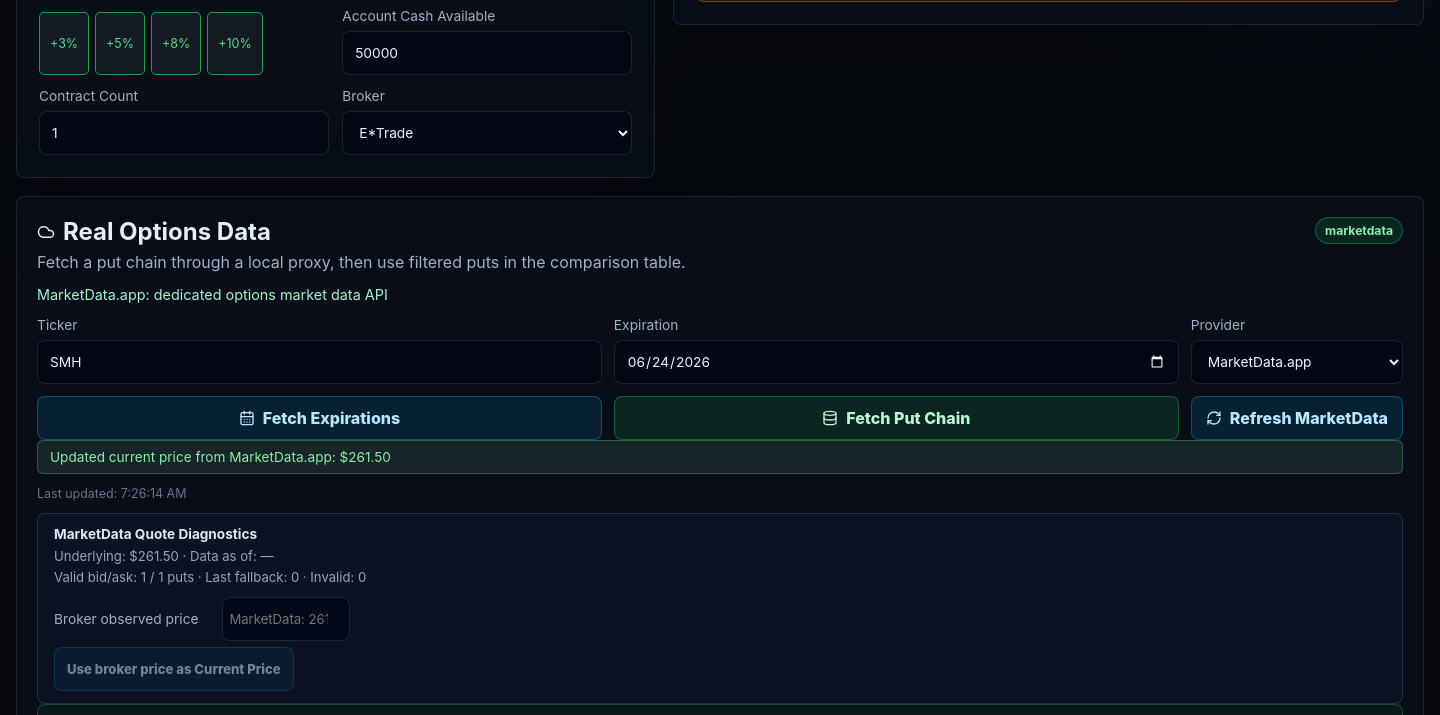
Scenario: App › hides apply prompt after Use in Comparison Table is clicked
(page scrolled)
Select "MarketData.app" in the dropdown named "options provider": coordinates (1297, 362) [1191,340,1403,384]
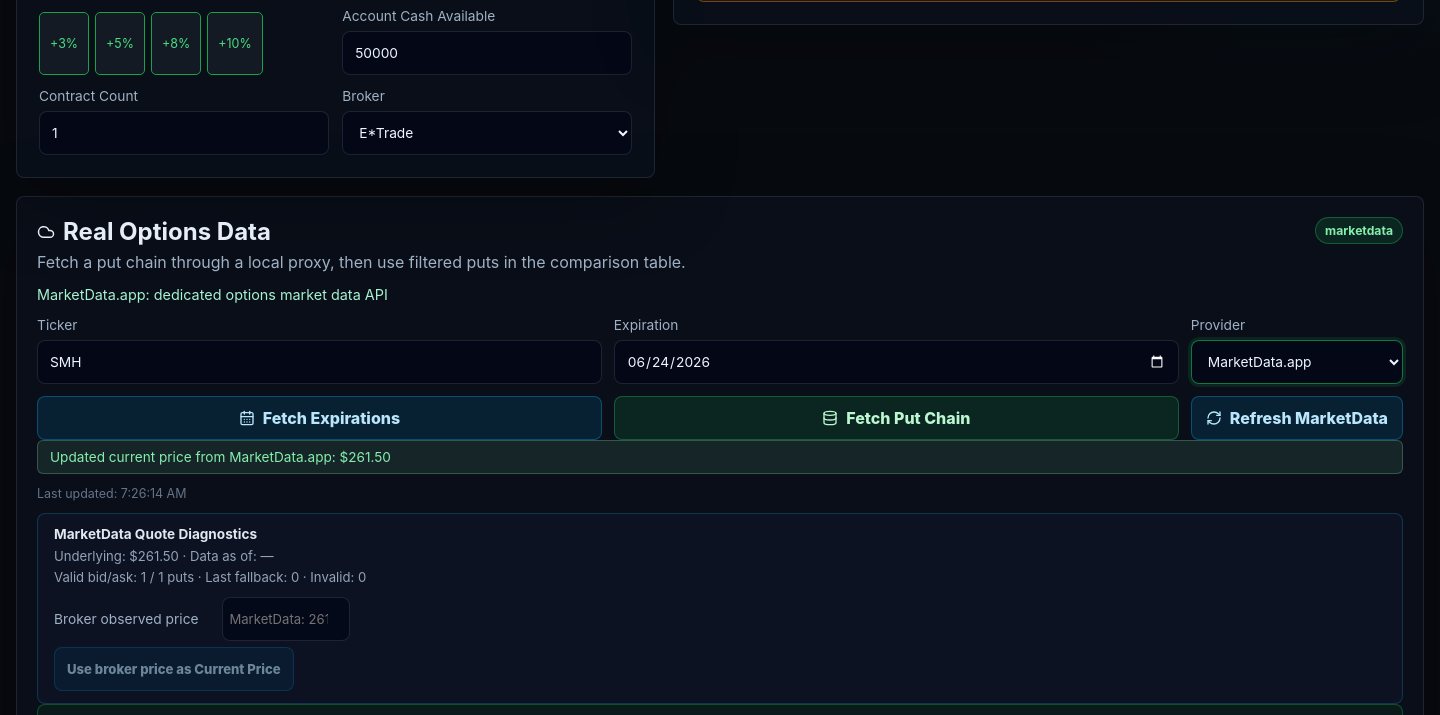
Click the button "Fetch Put Chain": coordinates (896, 418) [614,396,1179,440]
(page scrolled)
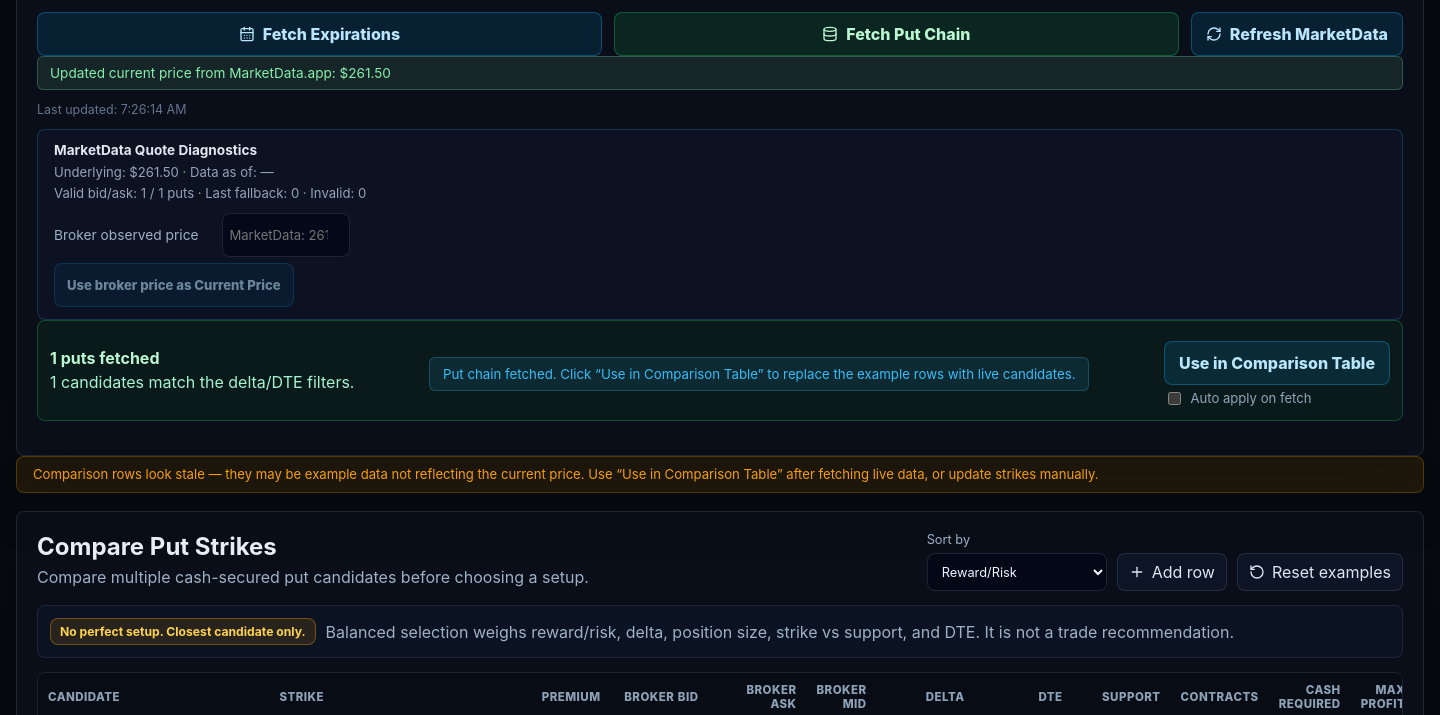
Expected: the text "Put chain fetched" is shown, [443,366,1075,382]
Click the button "Use in Comparison Table": coordinates (1277, 363) [1164,341,1390,385]
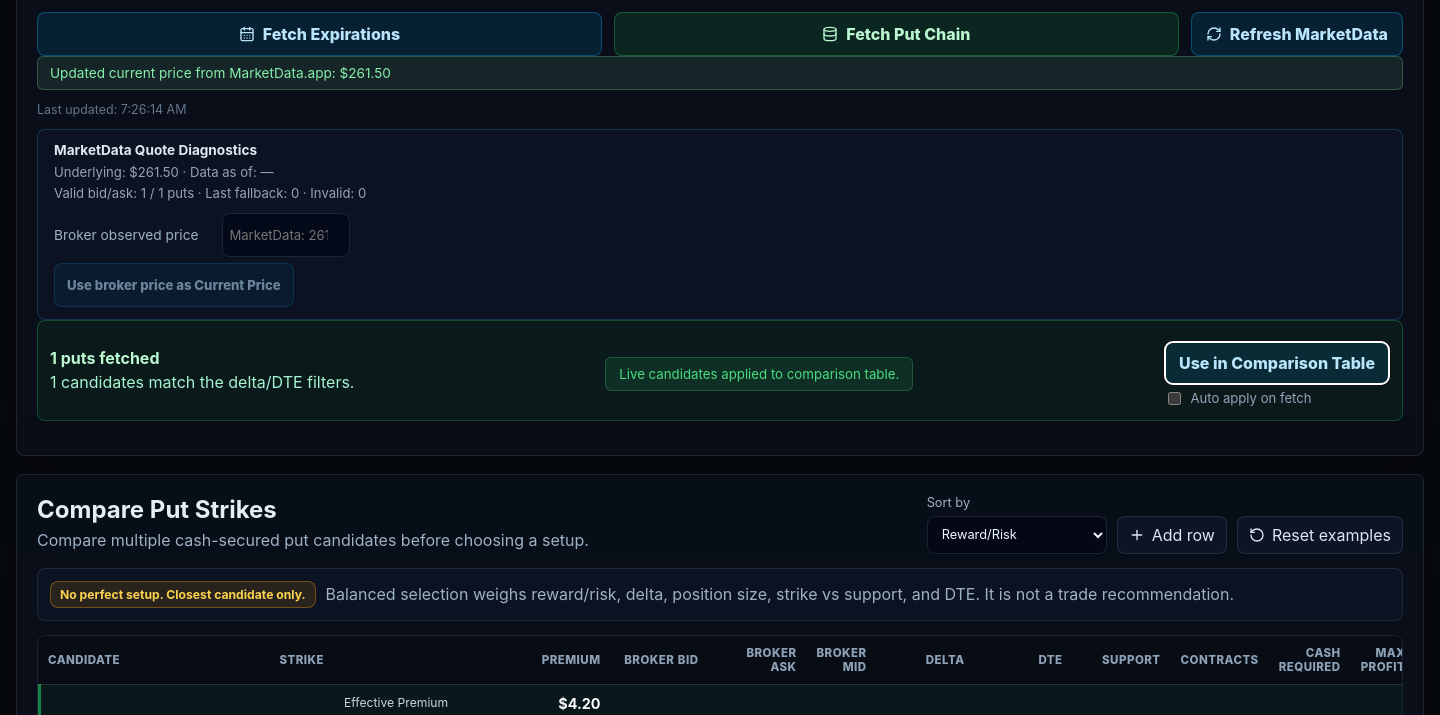
Now the text "Live candidates applied to comparison table." is shown, box [605,357,913,391]
Now the text "Put chain fetched" is gone
